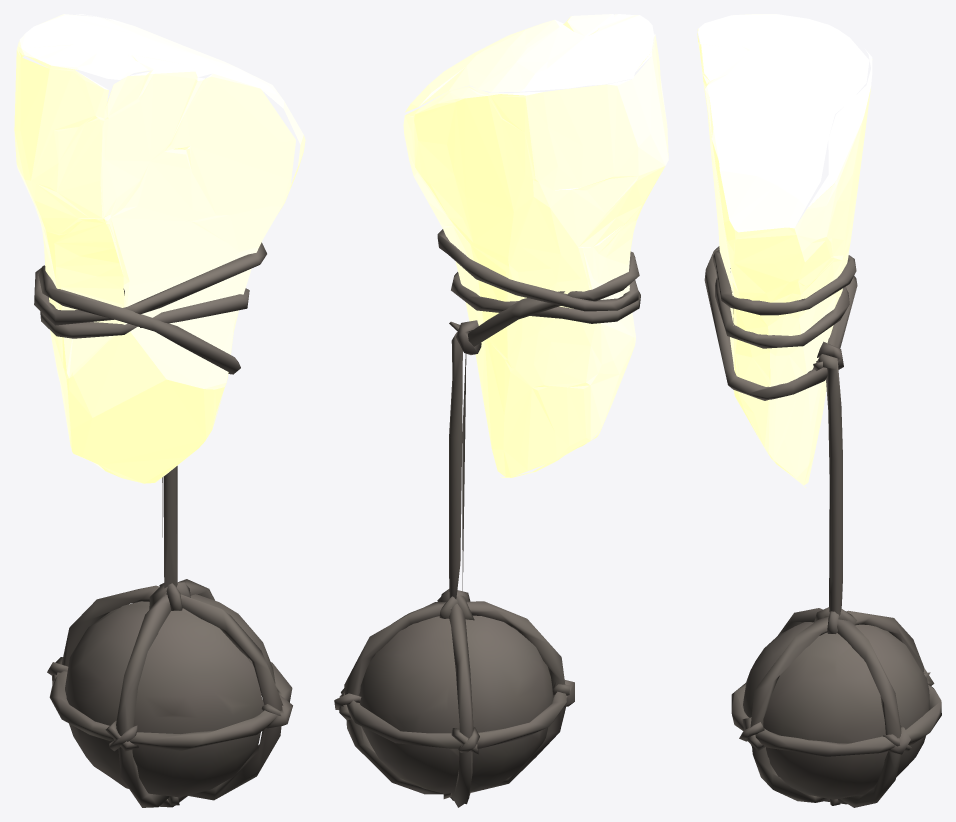
Rendered from lb_lantern_amber.glb.
The picture shows the model from 3 angles, left to right: view 1: azimuth 30°, elevation 25°; view 2: azimuth 150°, elevation 25°; view 3: azimuth 270°, elevation 25°; orthographic projection. The views are drawn at different scales.
Visible parts, largest first — view 1: geometry_0, geometry_1; view 2: geometry_0, geometry_1; view 3: geometry_0, geometry_1.
Part boxes in pixels (x1=…): geometry_0: x1=14, y1=14, x2=305, y2=483; geometry_1: x1=34, y1=242, x2=292, y2=807; geometry_0: x1=403, y1=14, x2=668, y2=477; geometry_1: x1=334, y1=229, x2=640, y2=807; geometry_0: x1=697, y1=14, x2=872, y2=487; geometry_1: x1=704, y1=246, x2=941, y2=807.
Bounding box in the file's own units: 1.33 × 3.59 × 1.1.
